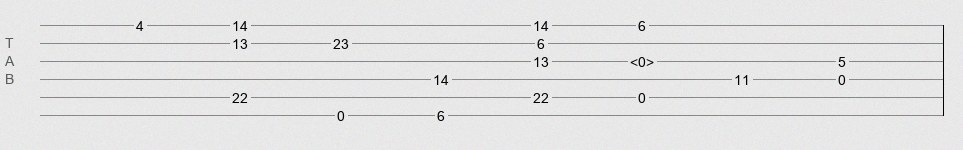0: (337, 108, 345, 118), (638, 90, 646, 100), (838, 72, 846, 82)
11: (734, 72, 750, 82)
13: (232, 36, 248, 46), (533, 54, 549, 64)
14: (232, 18, 248, 28), (433, 72, 449, 82), (533, 18, 549, 28)
22: (232, 90, 248, 100), (533, 90, 549, 100)
23: (333, 36, 349, 46)
4: (136, 18, 144, 28)
5: (838, 54, 846, 64)
6: (437, 108, 445, 118), (537, 36, 545, 46), (638, 18, 646, 28)
harmonic: (630, 54, 654, 64)
